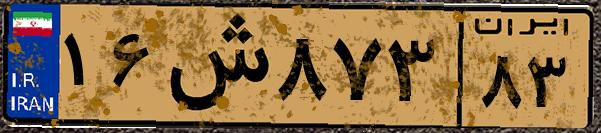1: (57, 26, 110, 100)
3: (385, 28, 445, 110), (525, 38, 570, 115)
6: (110, 28, 158, 98)
7: (330, 28, 385, 110)
8: (270, 28, 330, 110), (475, 38, 525, 113)
ش: (158, 12, 270, 120)
